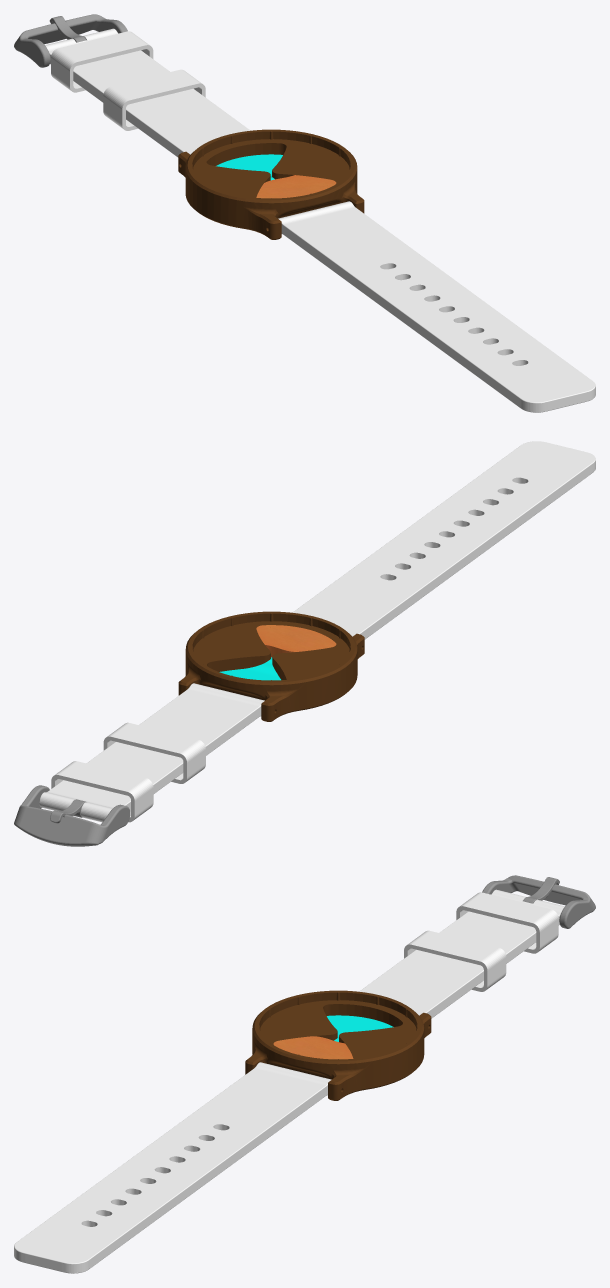
Rendered from watces.glb.
3 renders of one model, top to bottom at view 1: azimuth 30°, elevation 25°; view 2: azimuth 150°, elevation 25°; view 3: azimuth 330°, elevation 25°, orthographic.
Visible parts, largest first — view 1: watches_2nd_assy - HW_01-1; view 2: watches_2nd_assy - HW_01-1; view 3: watches_2nd_assy - HW_01-1.
Part boxes in pixels (x1,y1,x2,y2): watches_2nd_assy - HW_01-1: [14, 14, 595, 412]; watches_2nd_assy - HW_01-1: [14, 441, 595, 846]; watches_2nd_assy - HW_01-1: [14, 875, 595, 1273].
Bounding box in the file's own units: 0.82 × 0.1942 × 4.93.
1 material, 1 textured.
